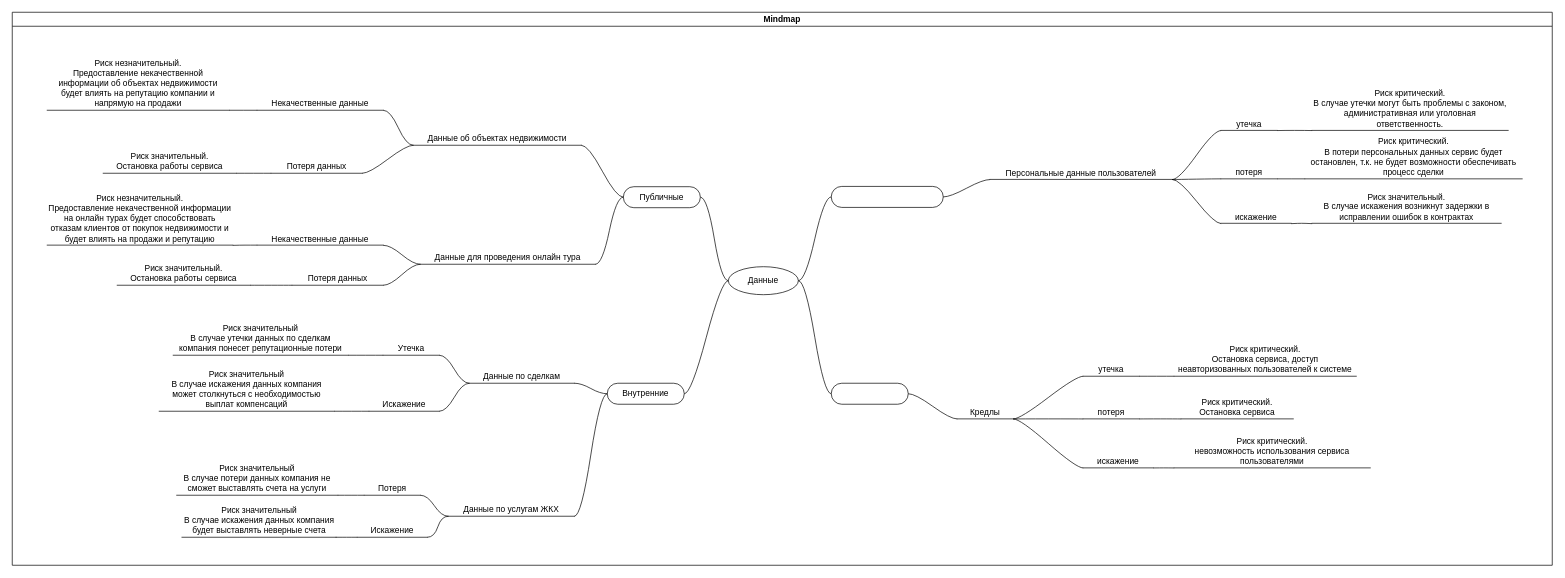
Image size: 1565x578. Some labels were removed from this diagram. The centre of each missing label's shape, as x and y in pixels:
Конфиденциальные: [887,196]
Секретные: [869,393]
